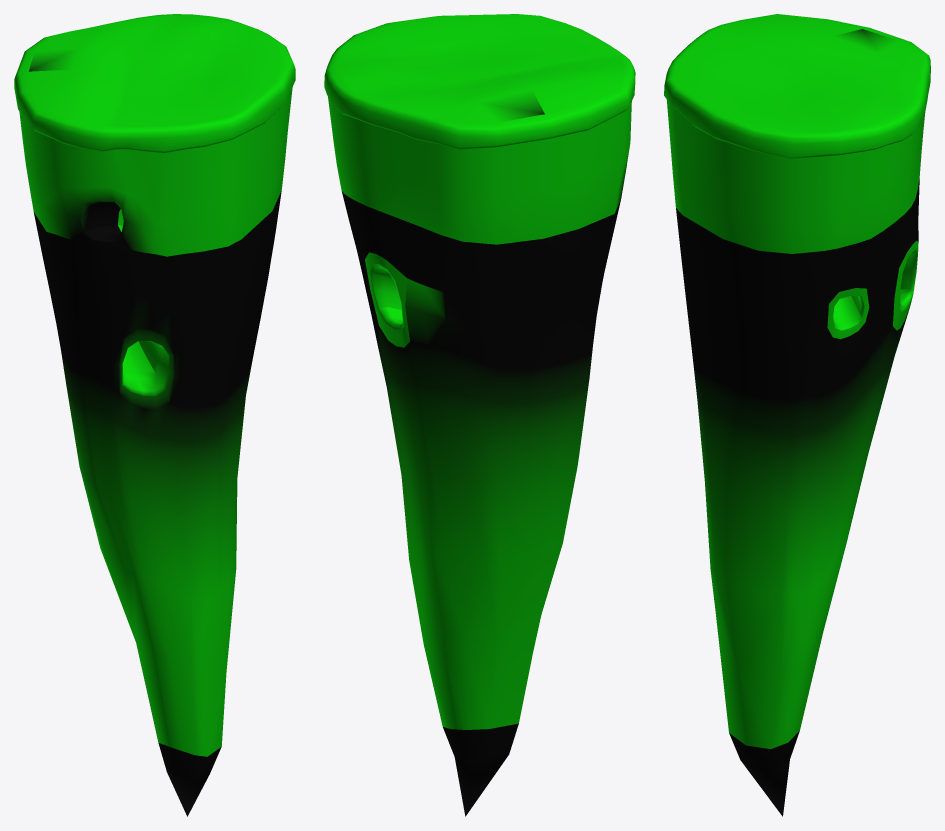
Rendered from Tunnel island with uv maps.fbx.
The picture shows the model from 3 angles, left to right: view 1: azimuth 30°, elevation 25°; view 2: azimuth 150°, elevation 25°; view 3: azimuth 270°, elevation 25°; orthographic projection. The views are drawn at different scales.
Visible parts, largest first — view 1: polySurface73, polySurface74, polySurface71; view 2: polySurface73, polySurface74, polySurface71; view 3: polySurface73, polySurface74, polySurface71.
Part boxes in pixels (x1=…): polySurface73: x1=19, y1=87, x2=292, y2=816; polySurface74: x1=14, y1=14, x2=295, y2=152; polySurface71: x1=80, y1=198, x2=170, y2=396; polySurface73: x1=328, y1=97, x2=631, y2=816; polySurface74: x1=324, y1=14, x2=635, y2=149; polySurface71: x1=370, y1=263, x2=404, y2=330; polySurface73: x1=666, y1=99, x2=924, y2=816; polySurface74: x1=664, y1=14, x2=930, y2=158; polySurface71: x1=832, y1=249, x2=917, y2=330.
Bounding box in the file's own units: 51.2 × 140 × 45.95.
